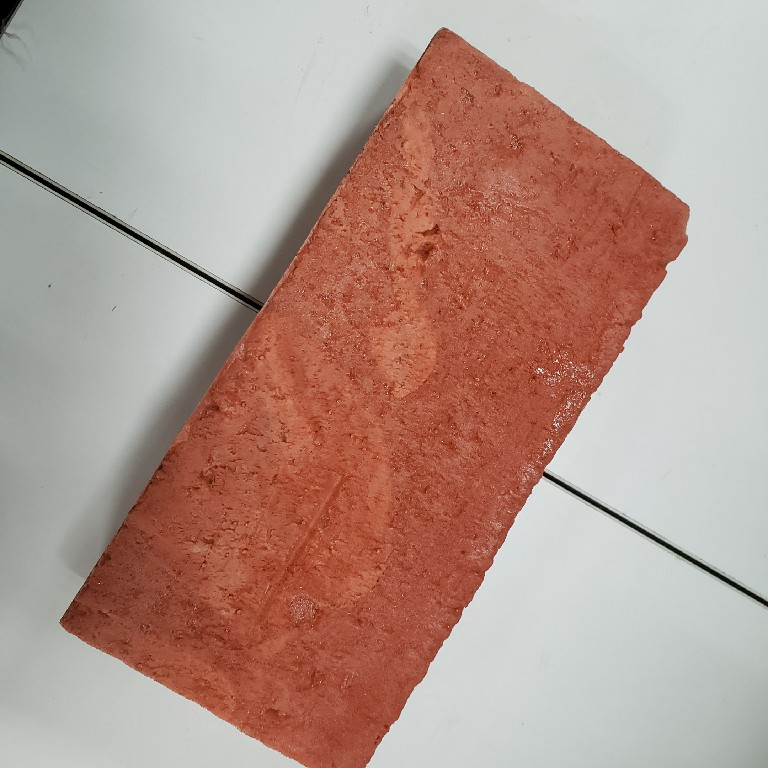brick: (49, 16, 699, 768)
